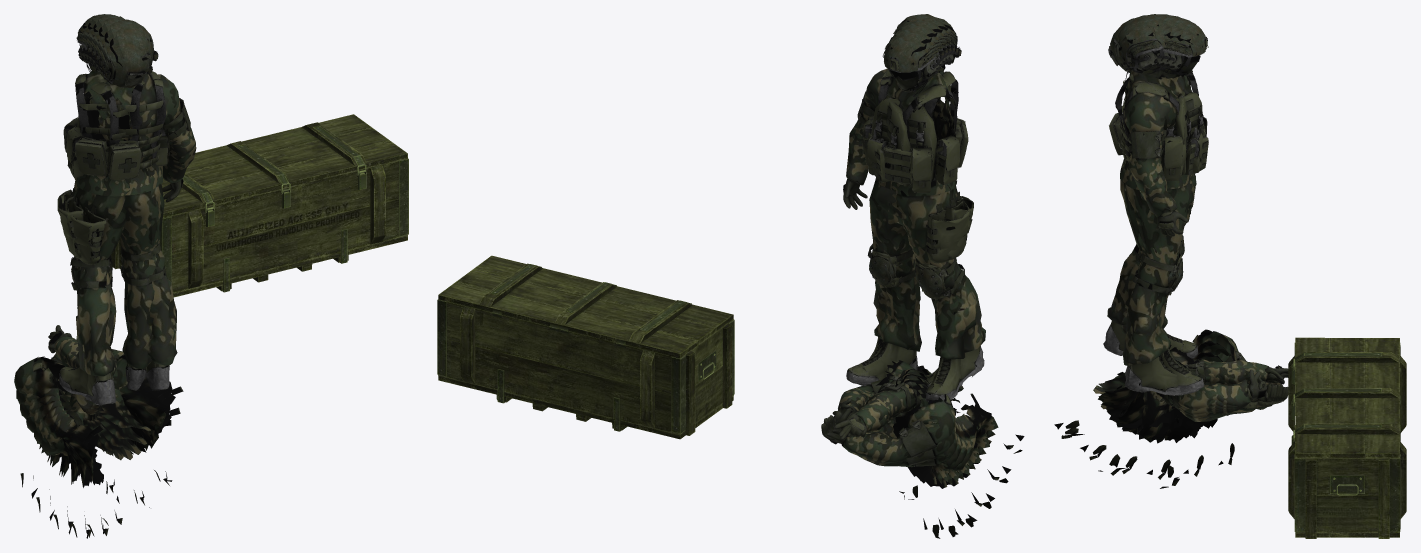
The model's file is crew_e.glb.
3 views of the same model, side by side, from view 1: azimuth 30°, elevation 25°; view 2: azimuth 150°, elevation 25°; view 3: azimuth 270°, elevation 25° (orthographic). The views are drawn at different scales.
Parts seen in each view (by area): view 1: body|wooden_military_crate, turret1|material_1.001, turret|material_1, ca5|material_1, cs2|material_1.001, th5|material_1, ca0|material_1, ca4|material_1, ca3|material_1, ca2|material_1, ca1|material_1, th0|material_1 (+5 smaller); view 2: body|wooden_military_crate, turret1|material_1.001, turret|material_1, ca0|material_1, th0|material_1, ca5|material_1, cs2|material_1.001, ca1|material_1, ca4|material_1, ca2|material_1, ca3|material_1, cs0|material_1.001 (+2 smaller); view 3: body|wooden_military_crate, turret1|material_1.001, turret|material_1, cs0|material_1.001, ca5|material_1, cs2|material_1.001, ca0|material_1, cs1|material_1.001, th0|material_1, ca1|material_1, ca2|material_1, ca4|material_1 (+4 smaller).
Part boxes in pixels (x1,y1,x2,y2): body|wooden_military_crate: [111, 114, 408, 297]; turret1|material_1.001: [59, 19, 196, 400]; turret|material_1: [57, 82, 170, 405]; ca5|material_1: [41, 349, 153, 525]; cs2|material_1.001: [52, 325, 183, 485]; th5|material_1: [77, 29, 152, 103]; ca0|material_1: [14, 333, 119, 498]; ca4|material_1: [33, 393, 148, 536]; ca3|material_1: [26, 391, 141, 538]; ca2|material_1: [20, 366, 133, 534]; ca1|material_1: [16, 376, 123, 520]; th0|material_1: [75, 14, 144, 108]; body|wooden_military_crate: [437, 255, 734, 439]; turret1|material_1.001: [843, 14, 973, 401]; turret|material_1: [846, 90, 985, 393]; ca0|material_1: [821, 369, 955, 538]; th0|material_1: [882, 35, 949, 109]; ca5|material_1: [835, 379, 1024, 471]; cs2|material_1.001: [834, 365, 968, 436]; ca1|material_1: [823, 371, 959, 536]; ca4|material_1: [834, 389, 1011, 483]; ca2|material_1: [829, 375, 977, 527]; ca3|material_1: [833, 381, 994, 508]; cs0|material_1.001: [840, 360, 919, 499]; body|wooden_military_crate: [1288, 337, 1406, 538]; turret1|material_1.001: [1109, 18, 1205, 395]; turret|material_1: [1103, 72, 1208, 393]; cs0|material_1.001: [1137, 359, 1288, 488]; ca5|material_1: [1054, 369, 1268, 438]; cs2|material_1.001: [1064, 359, 1288, 438]; ca0|material_1: [1169, 329, 1288, 465]; cs1|material_1.001: [1098, 360, 1288, 475]; th0|material_1: [1130, 18, 1208, 81]; ca1|material_1: [1172, 340, 1285, 476]; ca2|material_1: [1128, 352, 1283, 479]; ca4|material_1: [1080, 371, 1267, 460].
Bounding box in the file's own units: 2.39 × 2.64 × 1.75.
Materials: 25 (18 with a texture image).
